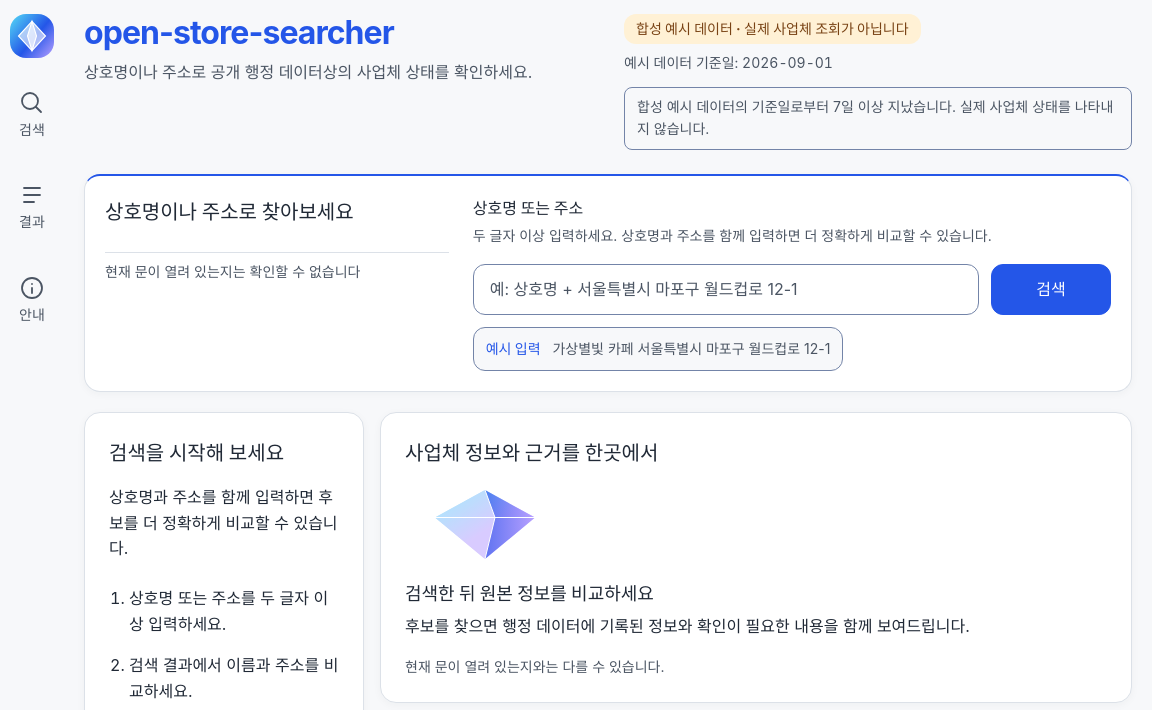
App › shows non-closure empty guidance and removes previous result cards
The width and height of the screenshot is (1152, 710).
Type "가상별빛 카페 서울특별시 마포구 월드컵로 12-1" into the search field labelled "상호명 또는 주소". click: (726, 289)
box: left=473, top=264, right=979, bottom=315
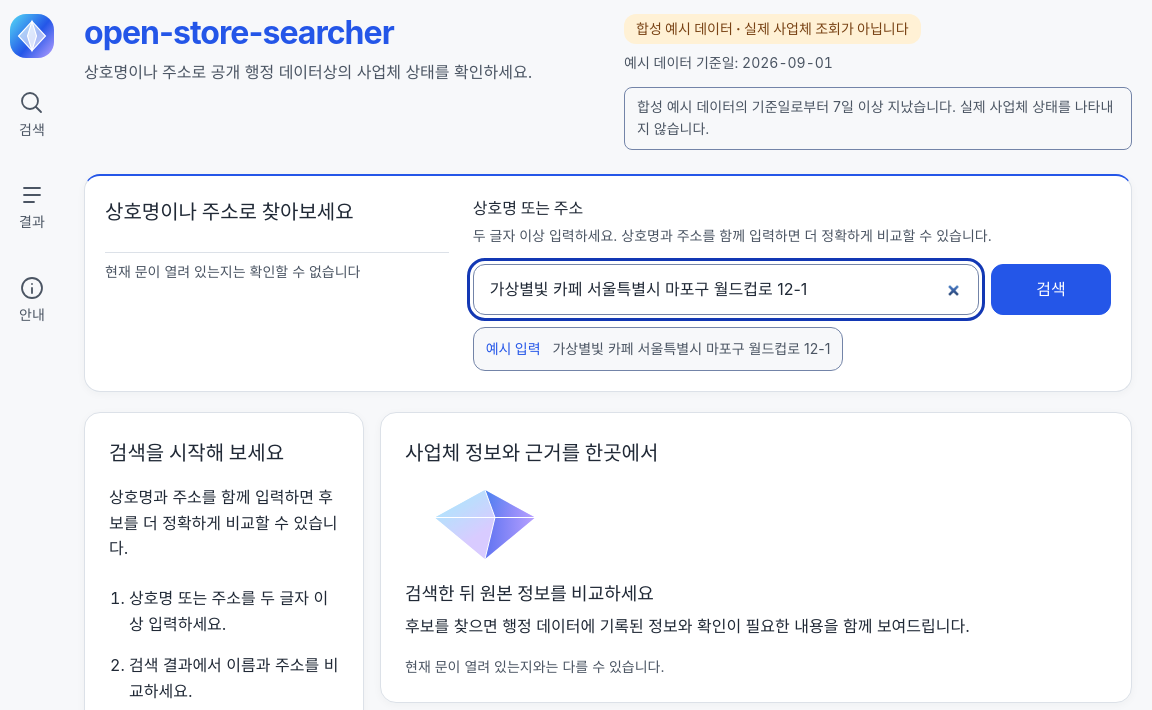
Click the button "검색" in the row of "현재 문이 열려 있는지는 확인할 수 없습니다". click: (1051, 289)
box: left=991, top=264, right=1111, bottom=315
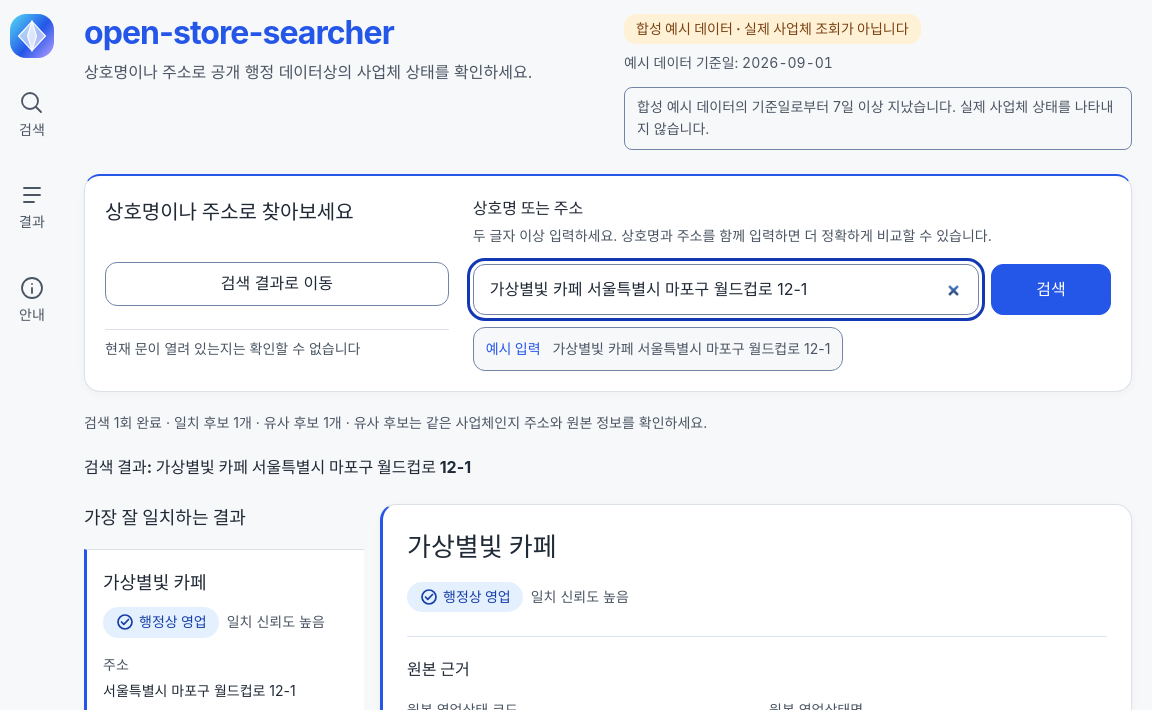
Replace the text in the search field labelled "상호명 또는 주소" with "존재하지않는시험사업체". click: (726, 289)
box: left=473, top=264, right=979, bottom=315
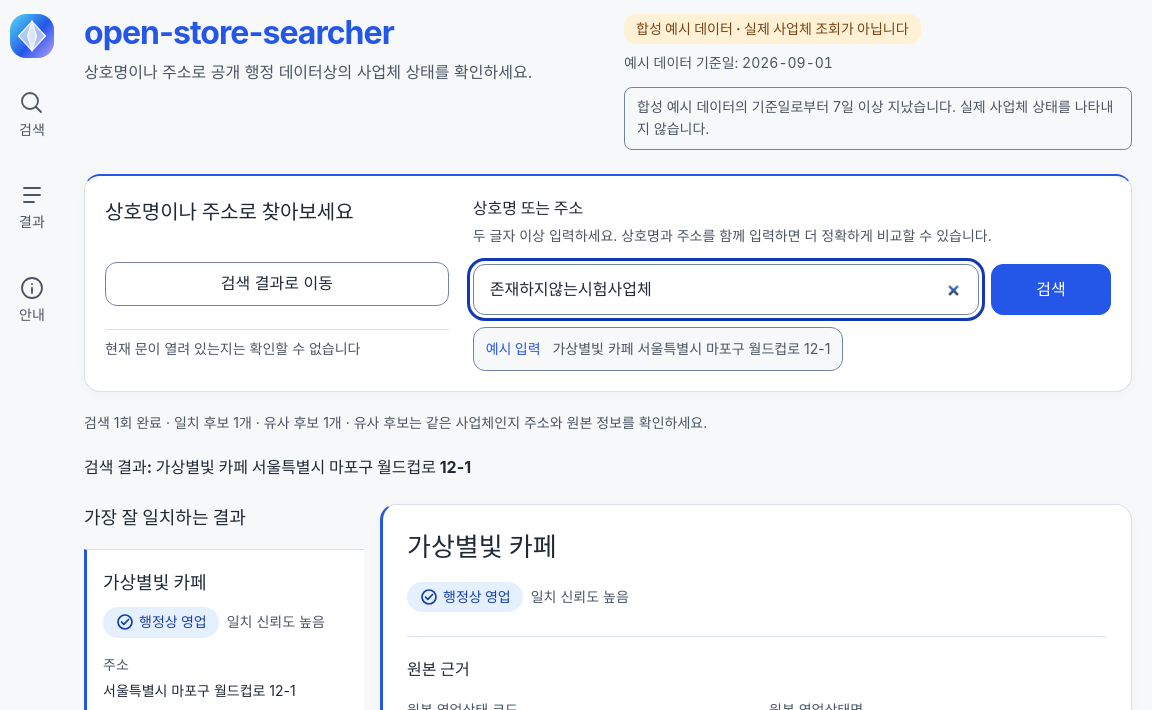
Click the 2nd button "검색". click: (1051, 289)
box: left=991, top=264, right=1111, bottom=315
(page scrolled)
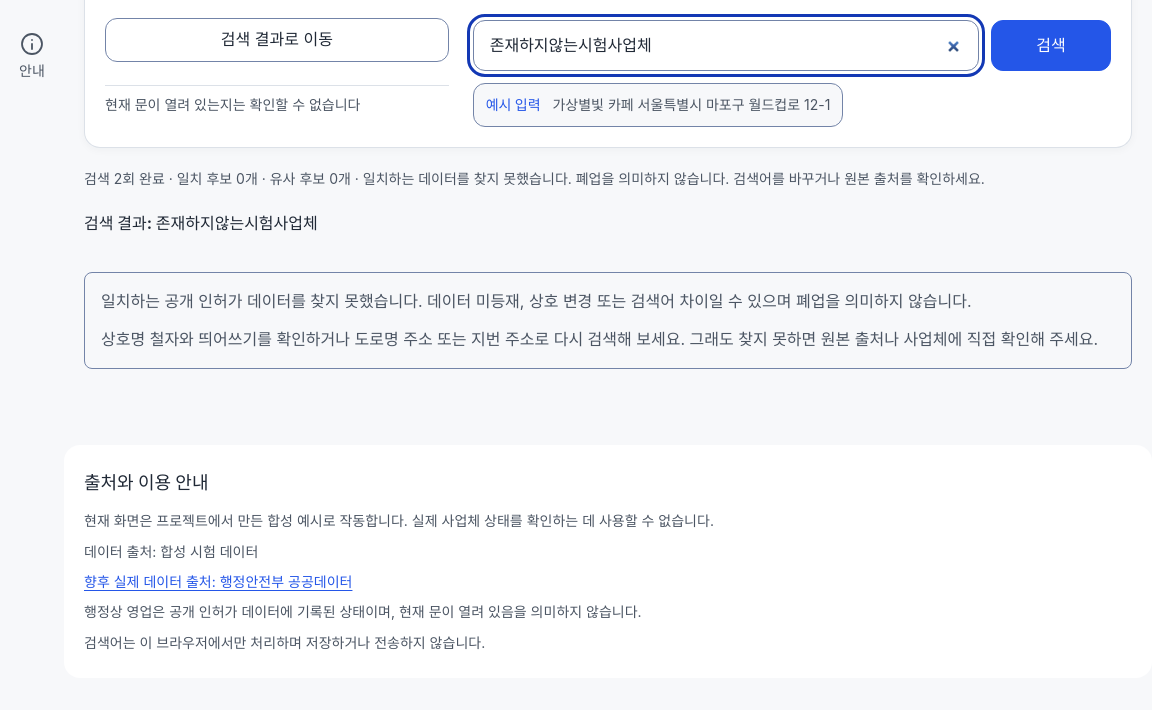
Expected: the footer is shown, left=0, top=421, right=1151, bottom=709
Now the text "일치하는 공개 인허가 데이터를 찾지 못했습니다. 데이터 미등재, 상호 변경 또는 검색어 차이일 수 있으며 폐업을 의미하지 않습니다." is shown, box left=101, top=289, right=1115, bottom=315
